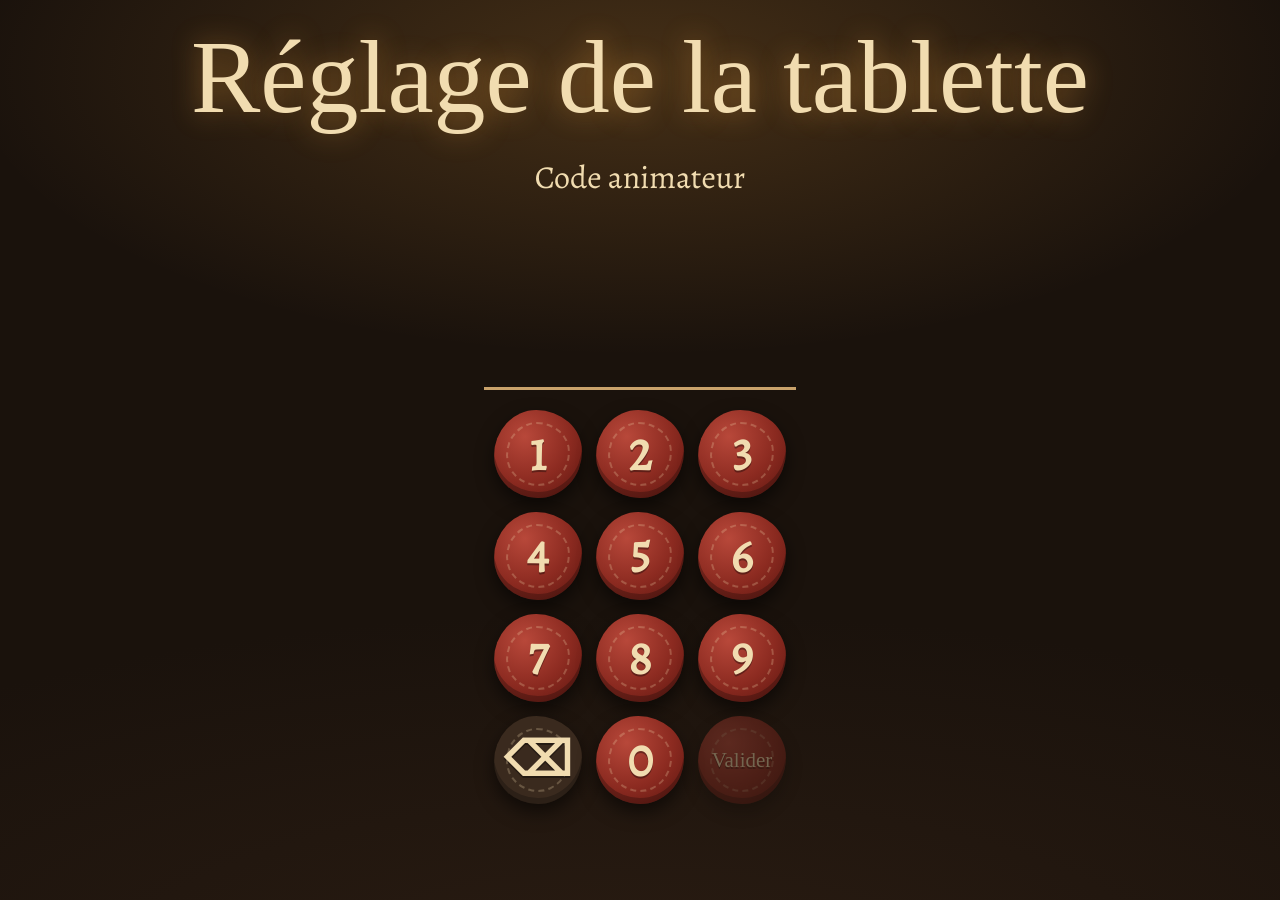
Test case: TeamSetupScreen › asks for the animator code first, shown as dots
Expected: the heading "Réglage de la tablette" is shown, 191,28 -> 1089,127
Click the button "2": (640, 454) 596,410 -> 684,498
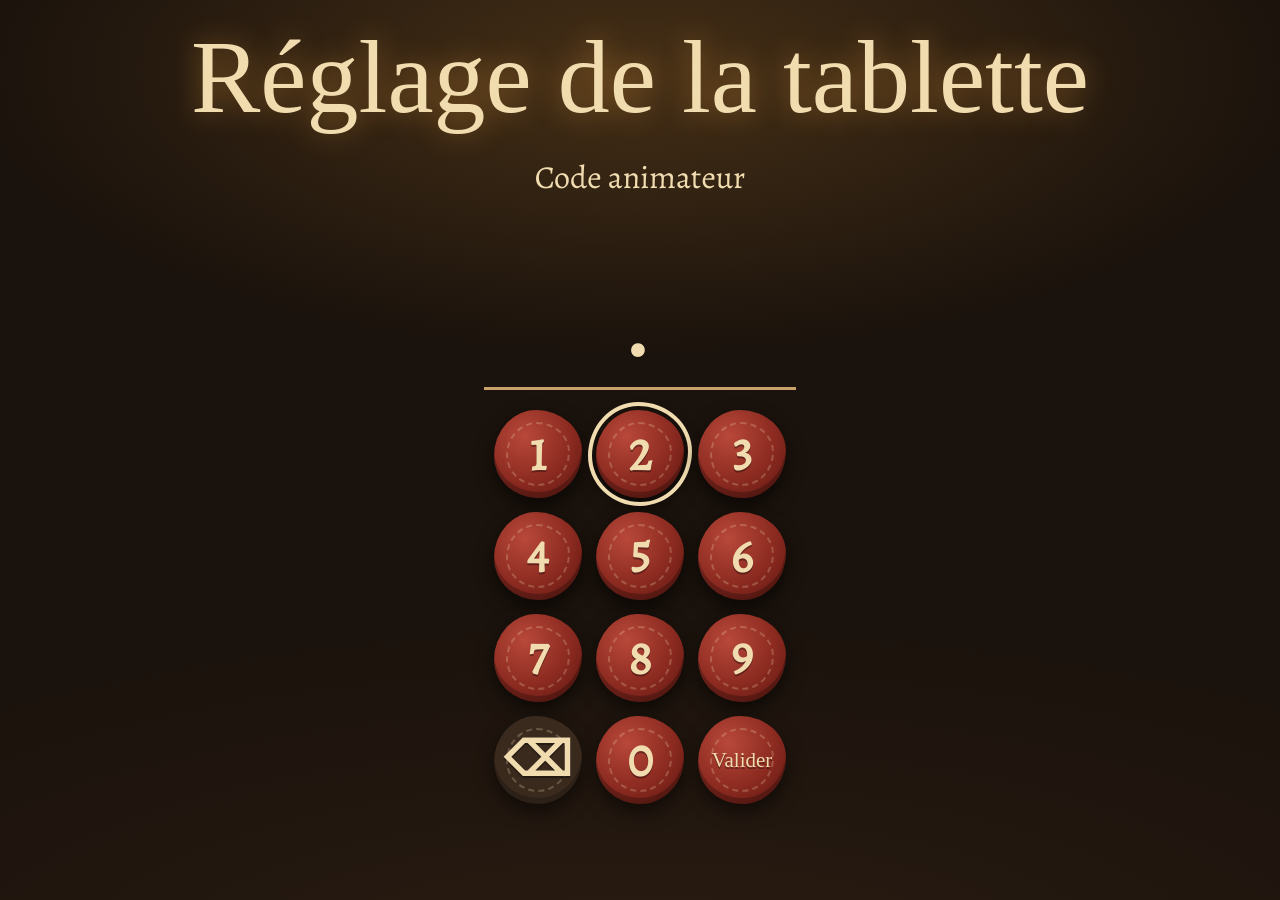
Click the button "7": (538, 658) 494,614 -> 582,702
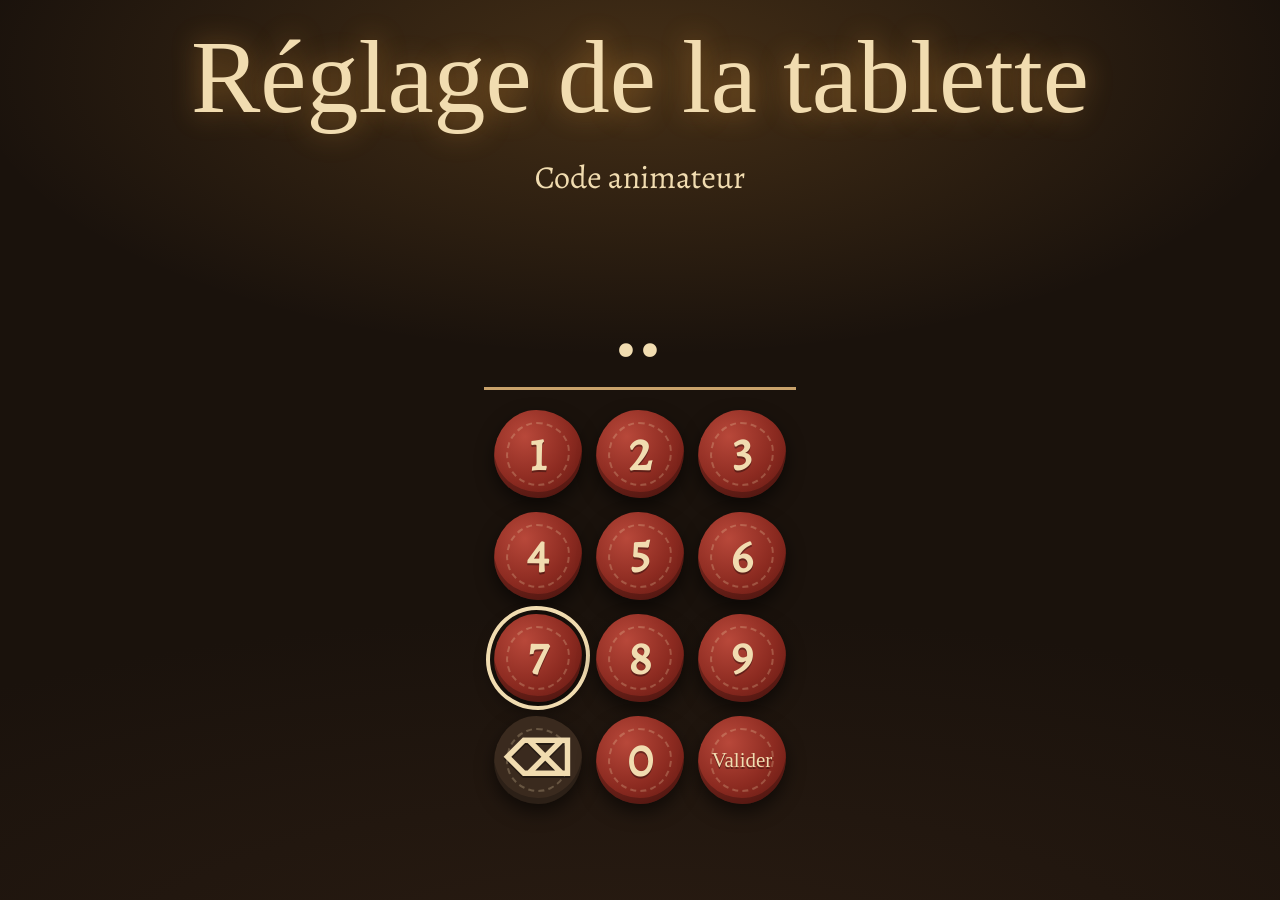
Now the text named "Réponse tapée" reads "••", box 616,310 -> 664,381
